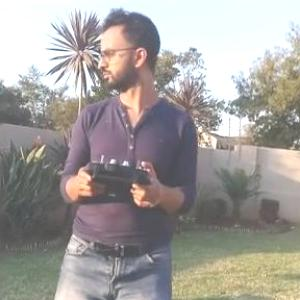follow: (47, 4, 194, 299)
